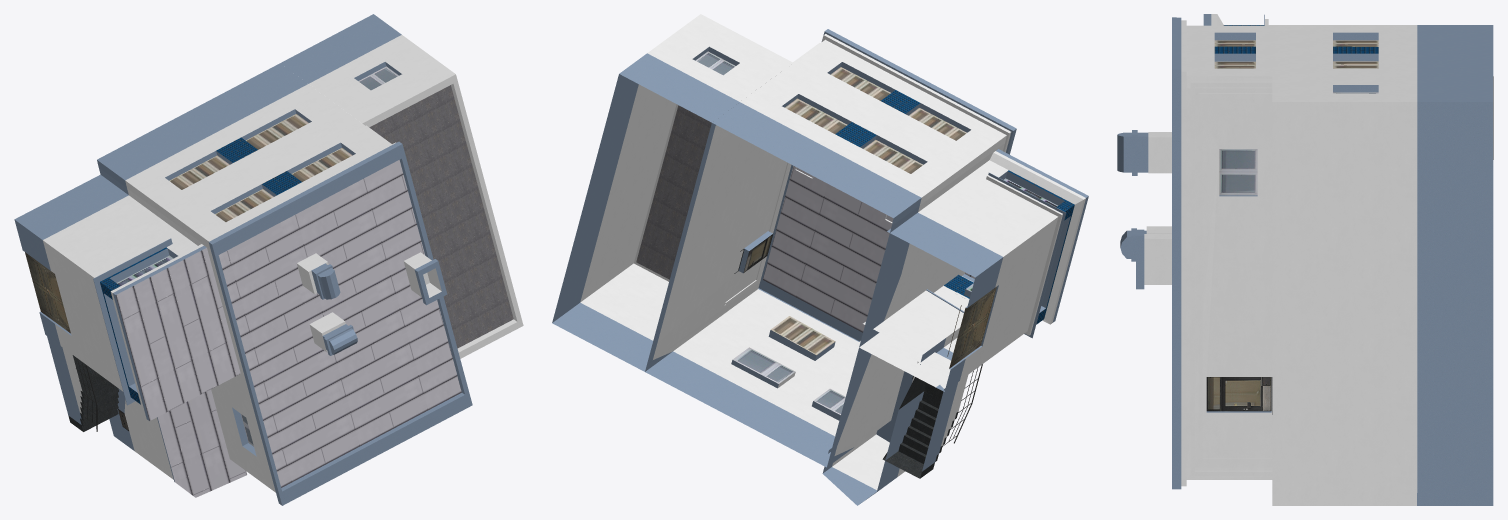
The model's file is Toompuiestee_6.obj.
3 renders of one model, left to right at view 1: azimuth 30°, elevation 25°; view 2: azimuth 150°, elevation 25°; view 3: azimuth 270°, elevation 25°, orthographic. The views are drawn at different scales.
Visible parts, largest first — view 1: Toompuiestee_6; view 2: Toompuiestee_6; view 3: Toompuiestee_6.
Part boxes in pixels (x1,y1,x2,y2): Toompuiestee_6: (14, 14, 523, 505); Toompuiestee_6: (552, 14, 1088, 505); Toompuiestee_6: (1117, 14, 1493, 505).
Size of the model in its own units: 18.4 by 15.36 by 10.31.
